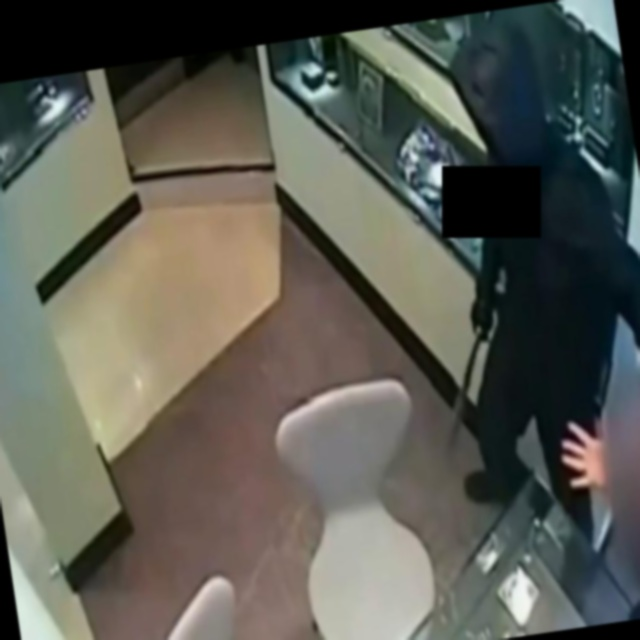gun: (421, 315, 512, 454)
